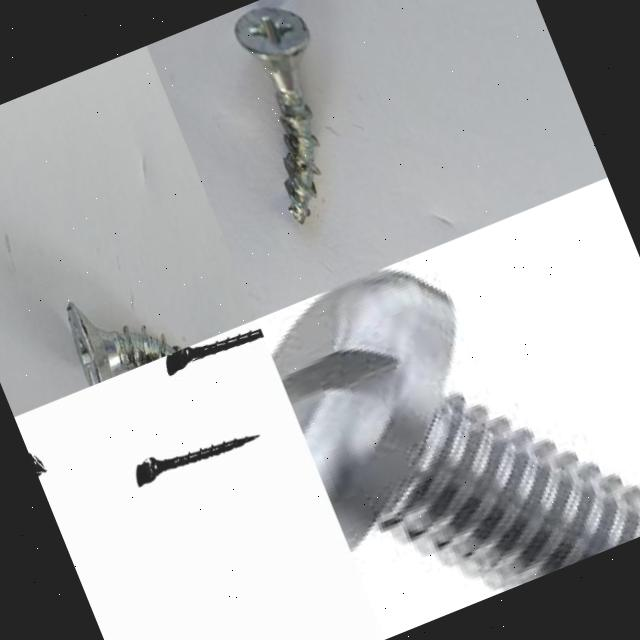Screw: (273, 269, 640, 593), (234, 6, 319, 223), (66, 301, 181, 386), (138, 433, 261, 486), (168, 328, 263, 374)
